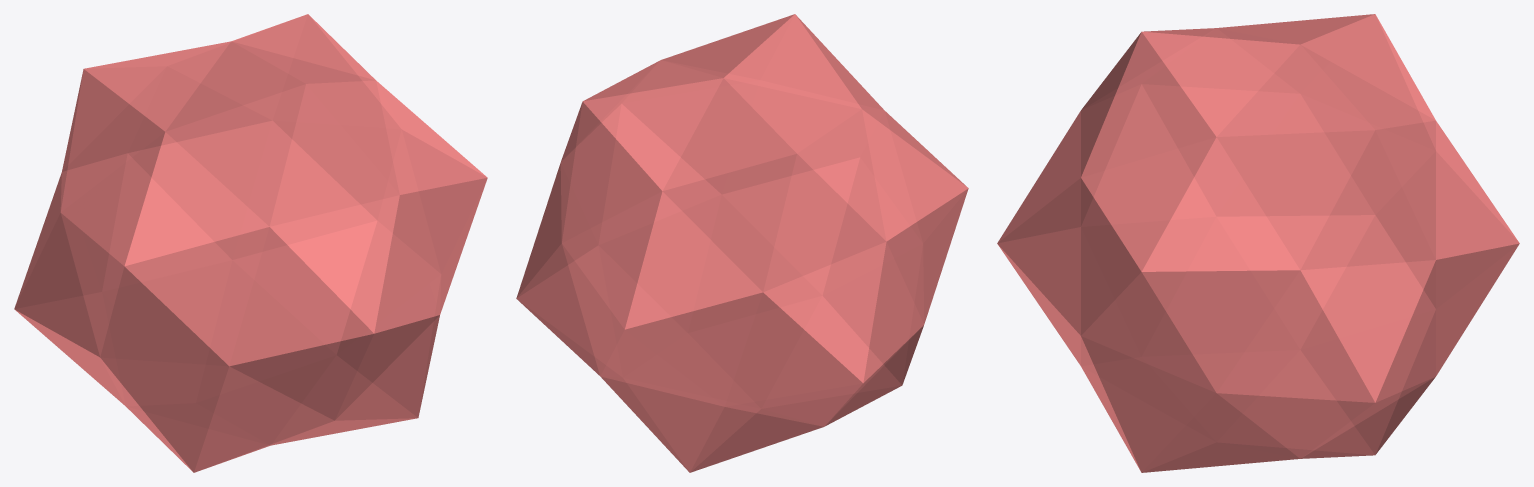
The model's file is 08_Dodecaugmented_Dodecahedron.obj.
The picture shows the model from 3 angles, left to right: view 1: azimuth 30°, elevation 25°; view 2: azimuth 150°, elevation 25°; view 3: azimuth 270°, elevation 25°; orthographic projection. The views are drawn at different scales.
Size of the model in its own units: 2.79 by 2.93 by 3.28.
